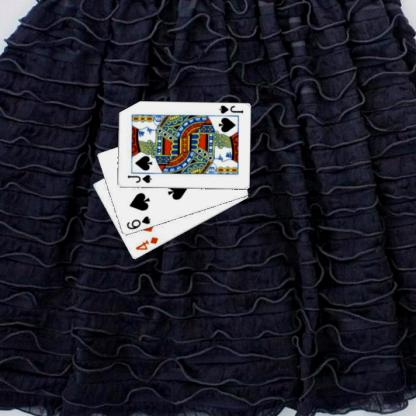4D: (132, 235, 160, 252)
6S: (124, 214, 151, 231)
JS: (125, 172, 153, 185), (217, 104, 244, 115)
